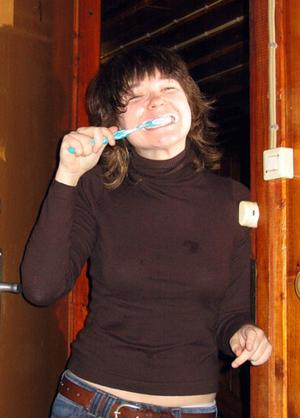person: (21, 45, 272, 418)
